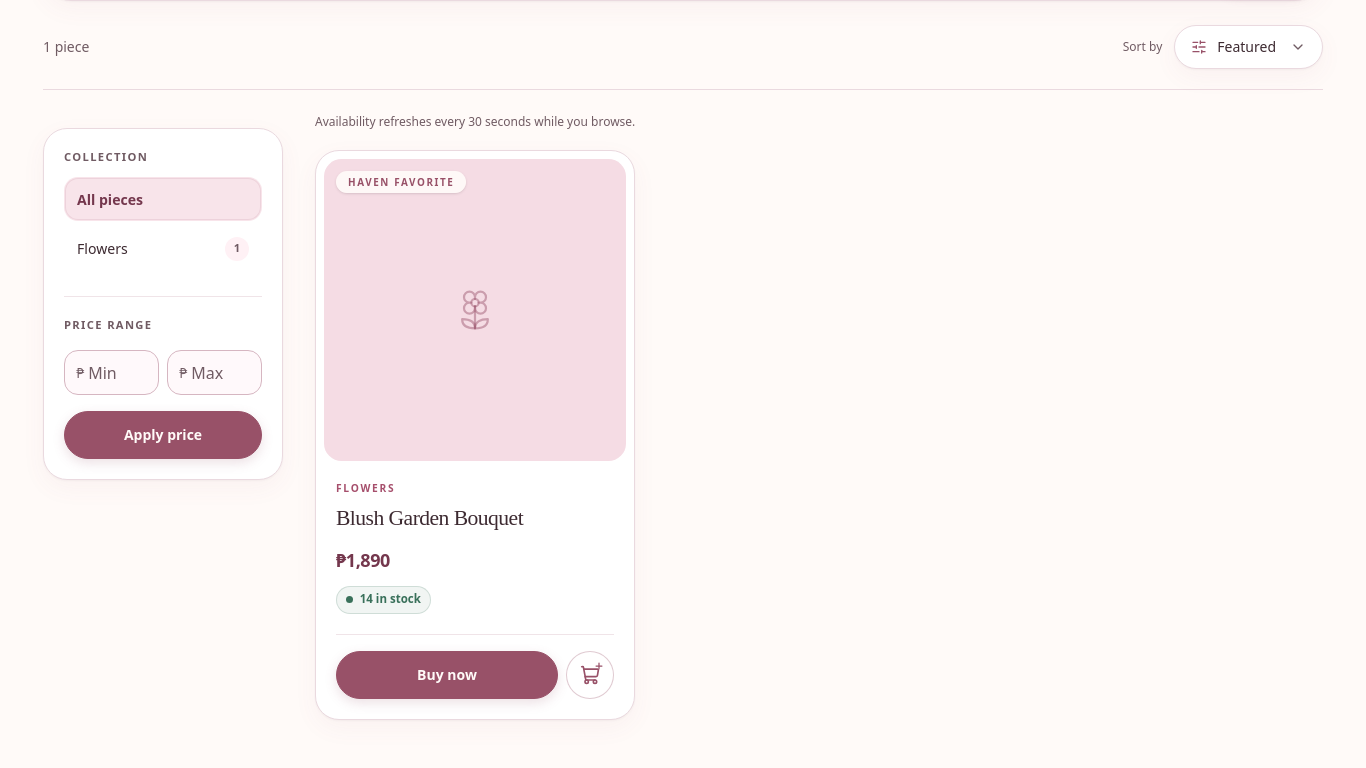
Scenario: catalog pages › refreshes stock immediately after a rejected add without retrying the mutation
This screenshot has width=1366, height=768.
(page scrolled)
What coordinates should you click on to do the following:
click the button named "Add Blush Garden Bouquet to cart"
I would click on:
 (590, 675)
Its box is [566, 651, 614, 699].
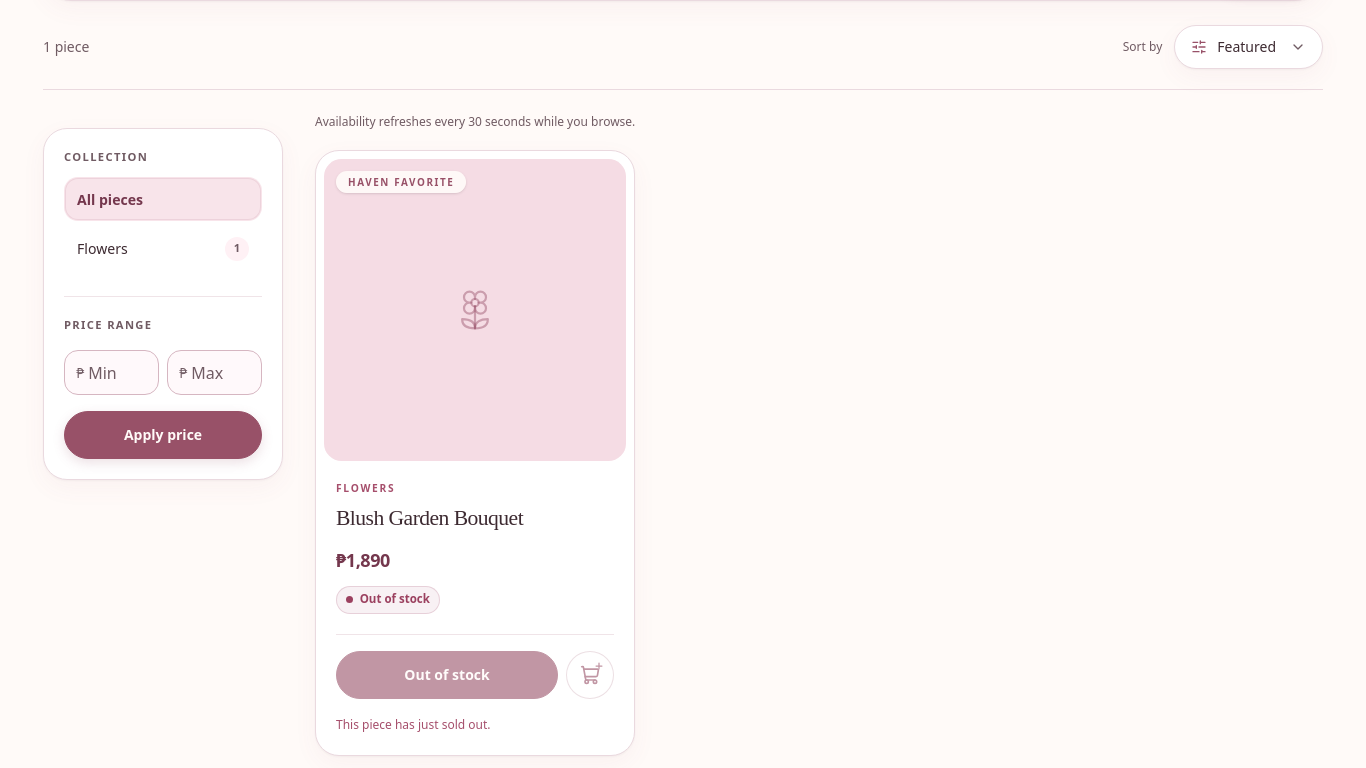
Result: the button "Out of stock" is disabled at [336, 651, 558, 699]
Result: the message "This piece has just sold out." is shown at [336, 716, 490, 733]
